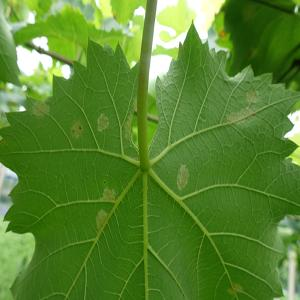Folha: (1, 19, 299, 299)
Fungo: (175, 163, 189, 190), (95, 208, 108, 231), (70, 119, 83, 139), (97, 112, 109, 132), (101, 186, 117, 201), (246, 88, 260, 104)
